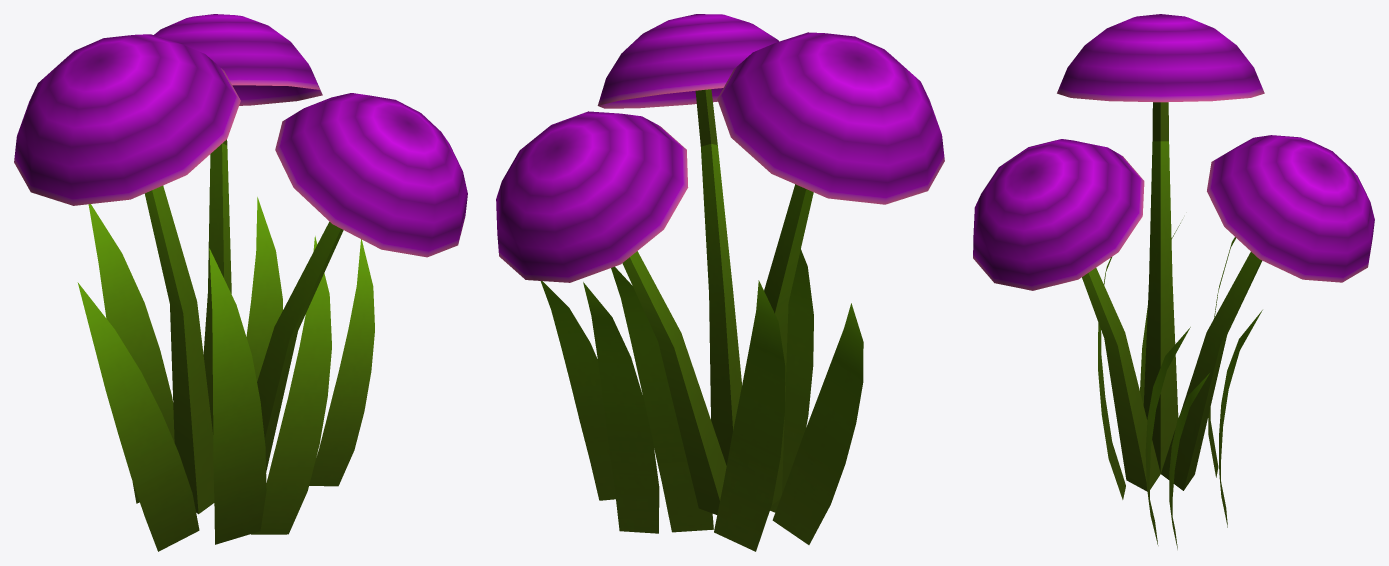
File: Mesh_Flower04.fbx
3 renders of one model, left to right at view 1: azimuth 30°, elevation 25°; view 2: azimuth 150°, elevation 25°; view 3: azimuth 270°, elevation 25°, orthographic. The views are drawn at different scales.
Visible parts, largest first — view 1: Mesh_Flower04; view 2: Mesh_Flower04; view 3: Mesh_Flower04.
Part boxes in pixels (x1,y1,x2,y2): Mesh_Flower04: (14, 14, 467, 551); Mesh_Flower04: (496, 14, 944, 551); Mesh_Flower04: (973, 14, 1374, 549).
Size of the model in its own units: 0.5329 by 0.724 by 0.574.
